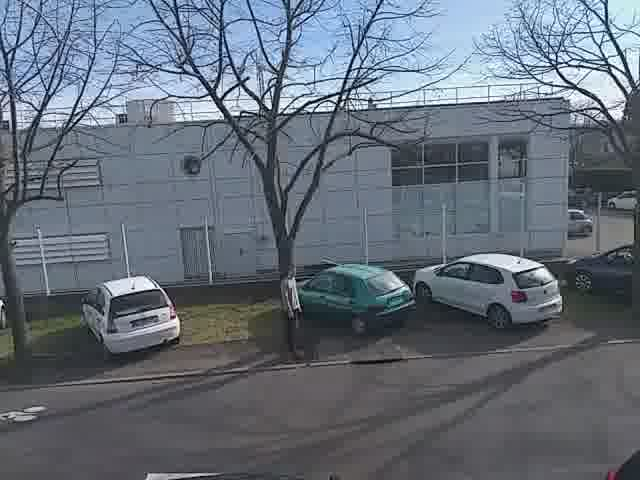persona: (274, 259, 309, 364)
